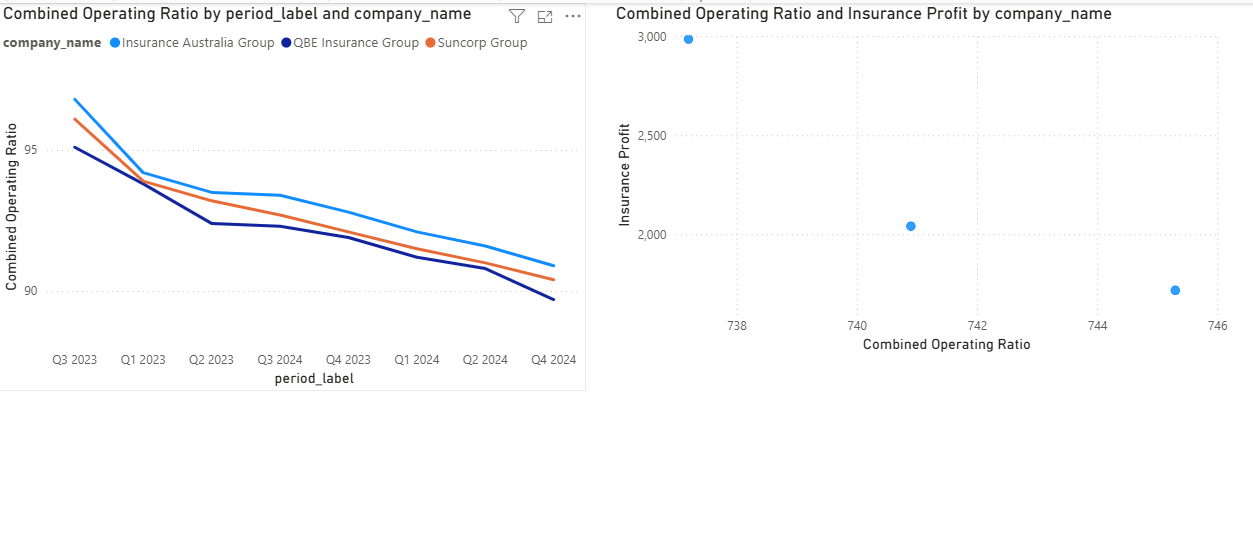

What the dashboard file says about the page in this screenshot:
{"tool":"powerbi","page":{"name":"KPI Trends","canvas":[1280,720],"ordinal":2},"visuals":[{"type":"lineChart","fields":{"Category":["dim_period.period_label"],"Y":["Measures (2).Combined Operating Ratio"],"Series":["dim_company.company_name"]},"box":[9.7,0,583.6,385.2],"z":0},{"type":"scatterChart","fields":{"X":["Measures (2).Combined Operating Ratio"],"Y":["Measures (2).Insurance Profit"],"Category":["dim_company.company_name"]},"box":[618.6,0,616.7,351.1],"z":1}]}

Visuals, with their boxes on the page's 1280x720 design canvas (x1, y1, x2, y2). These are canvas units, not pixel positions in the 1253x535 screenshot, which may show the page scaled, cropped or inside an application window:
lineChart - dim_period.period_label x Measures (2).Combined Operating Ratio: <box>10,0,593,385</box>
scatterChart - Measures (2).Combined Operating Ratio x Measures (2).Insurance Profit: <box>619,0,1235,351</box>
